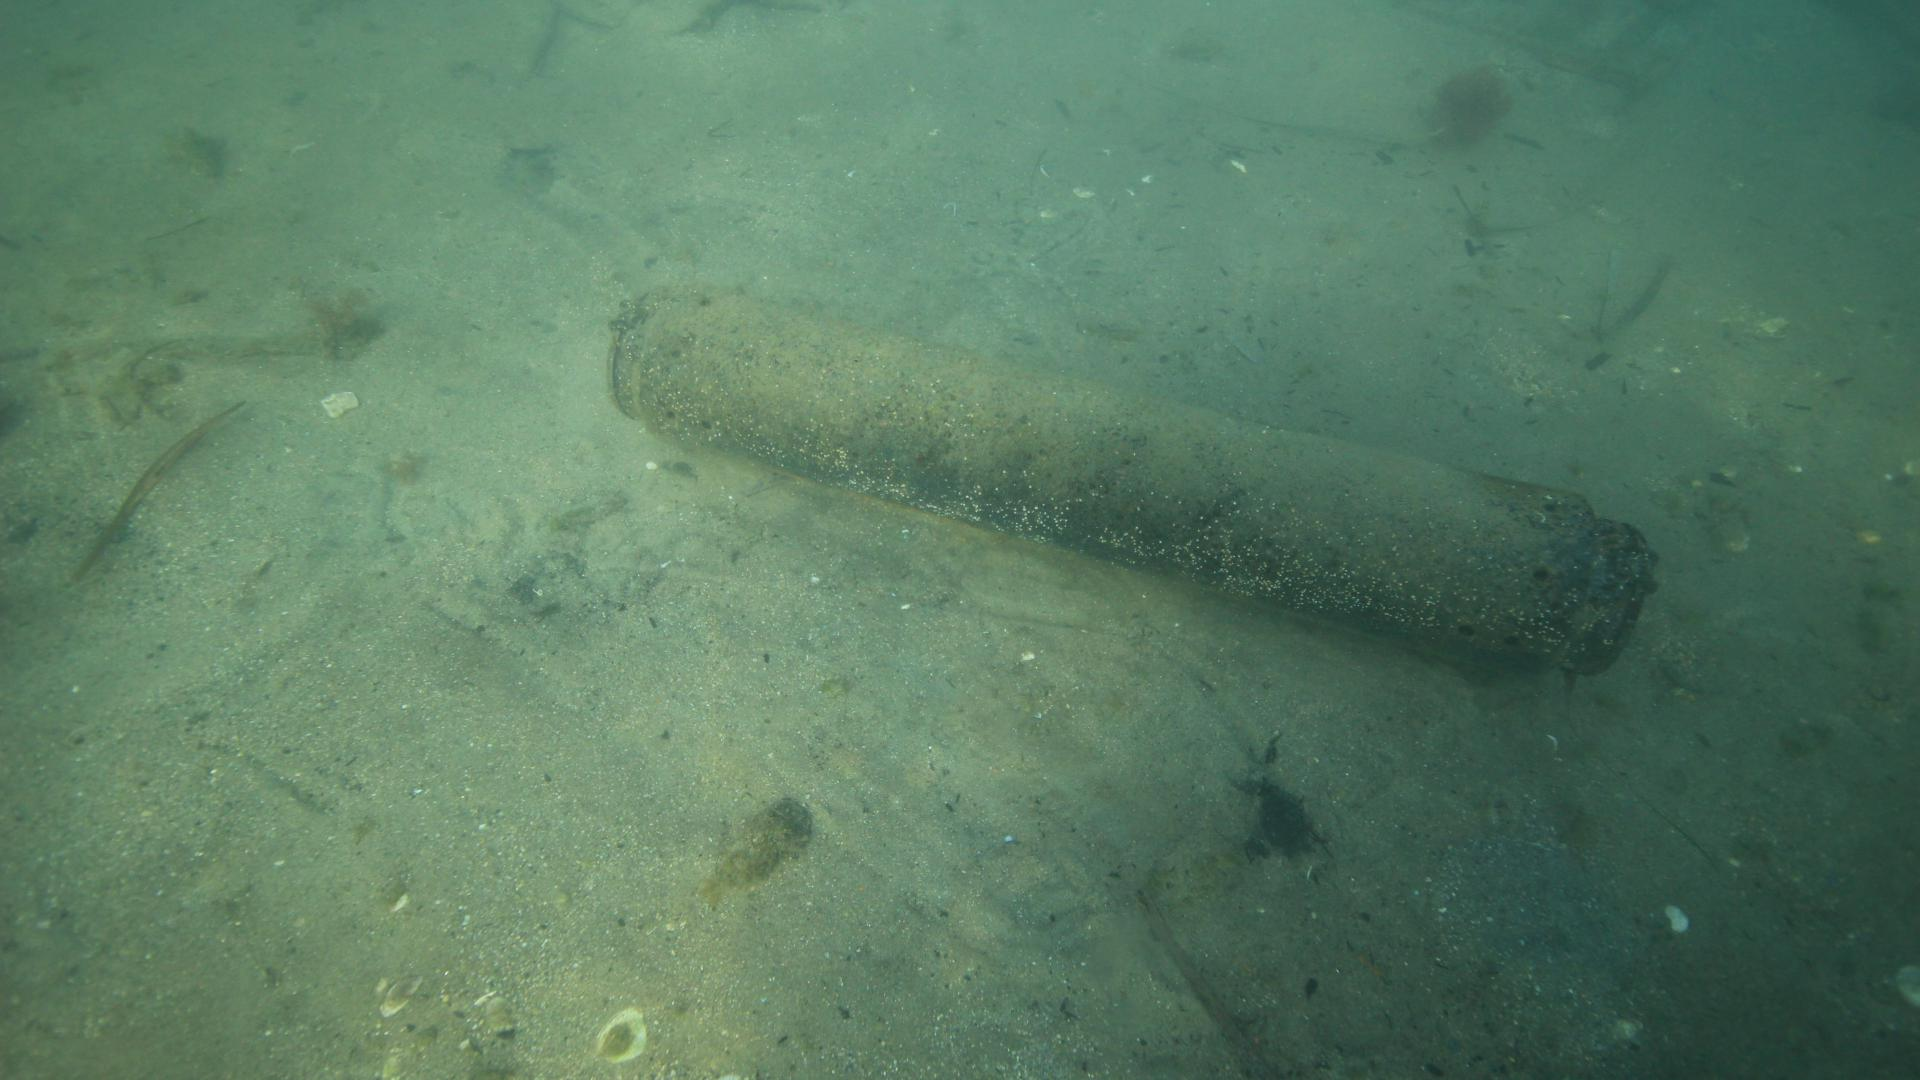eel fish trap: (603, 286, 1656, 676)
